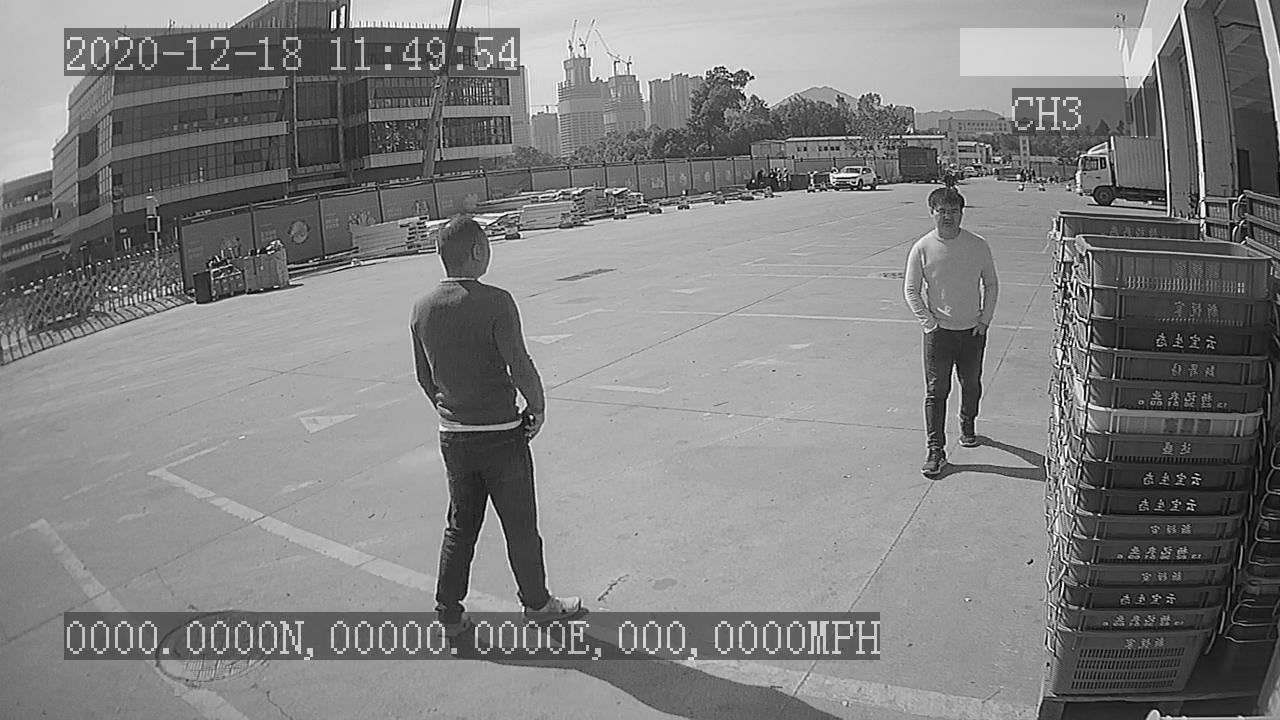person: (899, 181, 1004, 483)
